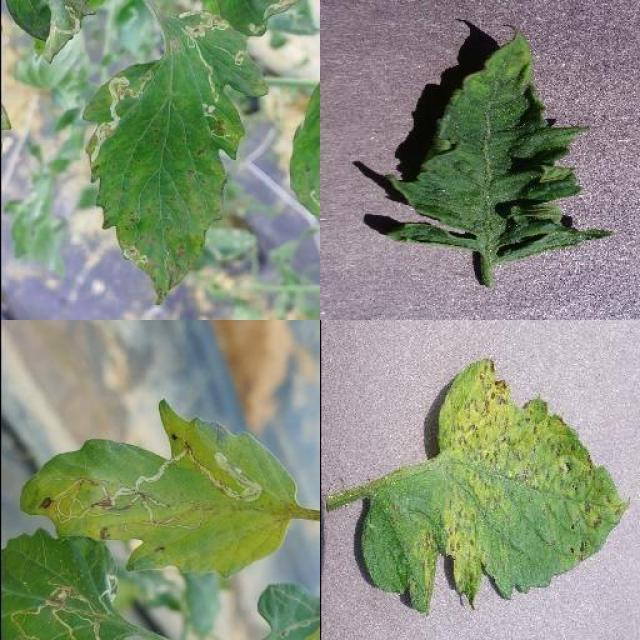Septoria: (360, 356, 628, 615)
